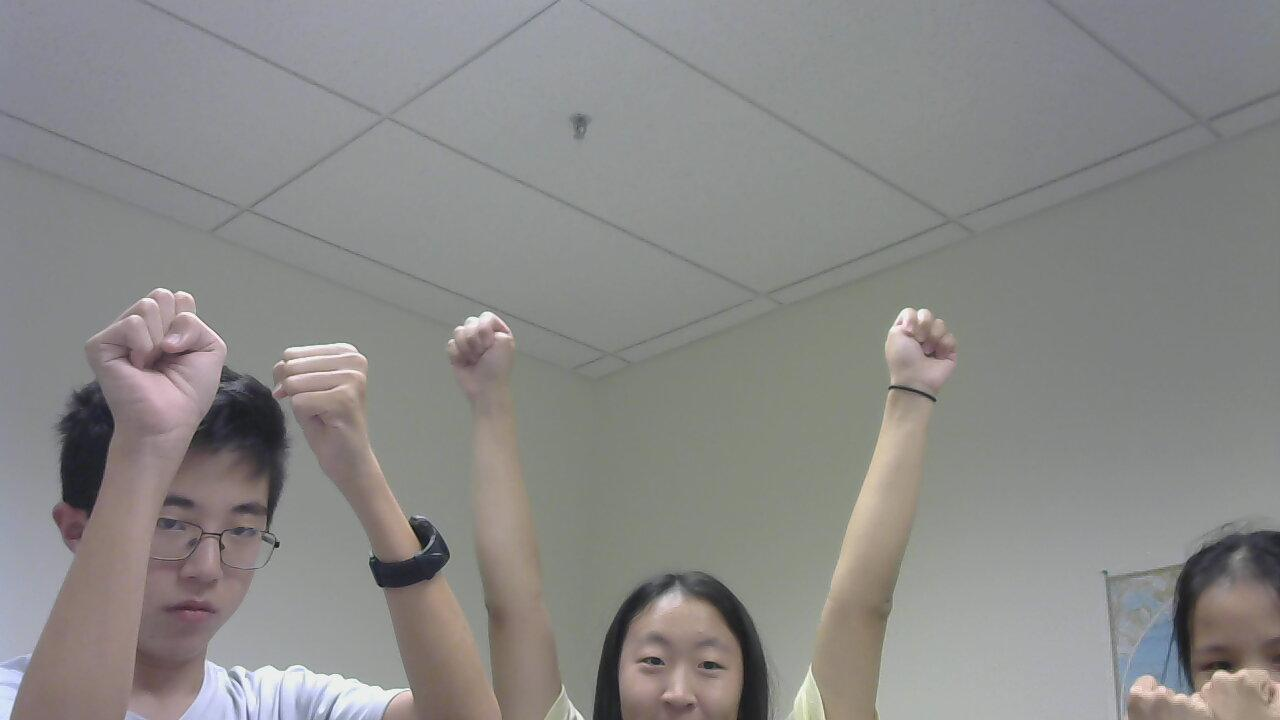fist: (86, 284, 237, 441), (256, 337, 389, 470), (868, 297, 982, 433), (441, 302, 560, 420), (1121, 654, 1214, 720), (1186, 674, 1280, 719)
